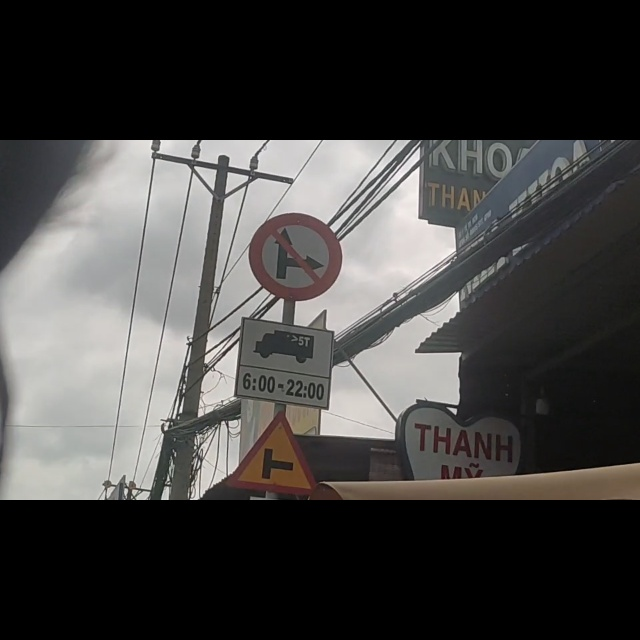bien_nguy_hiem: (251, 127, 342, 286), (238, 313, 328, 469), (234, 486, 319, 622)
